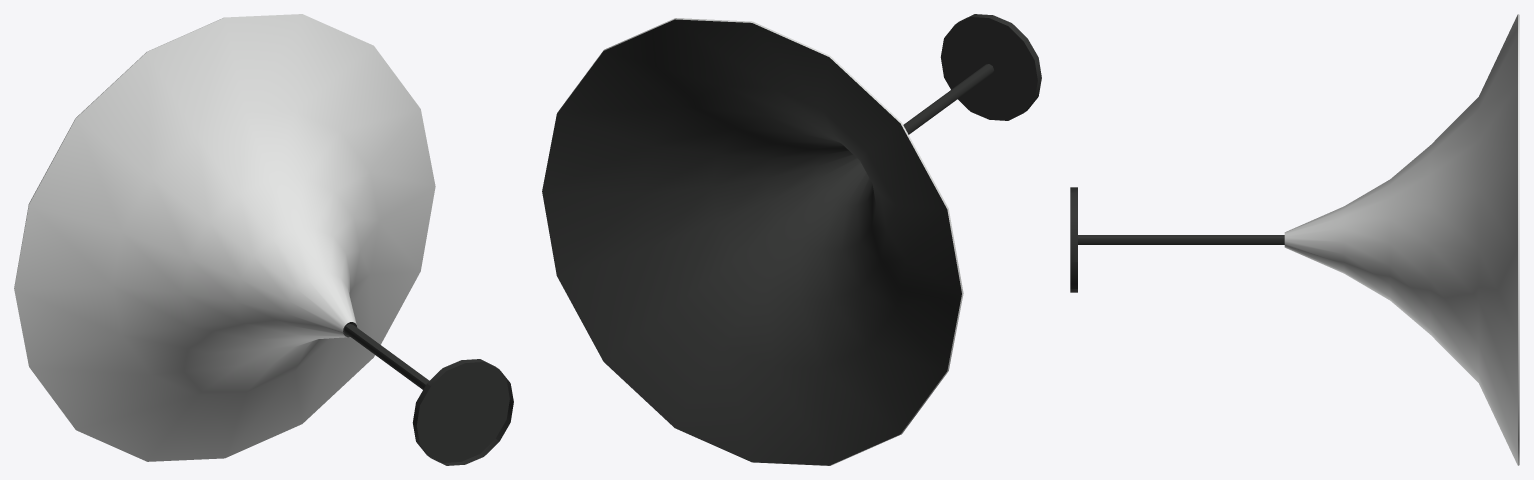
The model's file is nt_2020_light_fixture_01_LOD0.obj.
3 views of the same model, side by side, from view 1: azimuth 30°, elevation 25°; view 2: azimuth 150°, elevation 25°; view 3: azimuth 270°, elevation 25° (orthographic). The views are drawn at different scales.
Parts seen in each view (by area): view 1: ap_chrome, nt_2020_metal_stainless; view 2: nt_2020_metal_stainless, ap_chrome; view 3: ap_chrome, nt_2020_metal_stainless.
Boxes of the visible parts, <box> form: ap_chrome: <box>14,14,435,461</box>; nt_2020_metal_stainless: <box>343,322,513,465</box>; nt_2020_metal_stainless: <box>542,14,1041,465</box>; ap_chrome: <box>557,18,963,465</box>; ap_chrome: <box>1284,14,1519,465</box>; nt_2020_metal_stainless: <box>1070,187,1284,292</box>.
Bounding box in the file's own units: 77.1 × 77.1 × 76.46.
